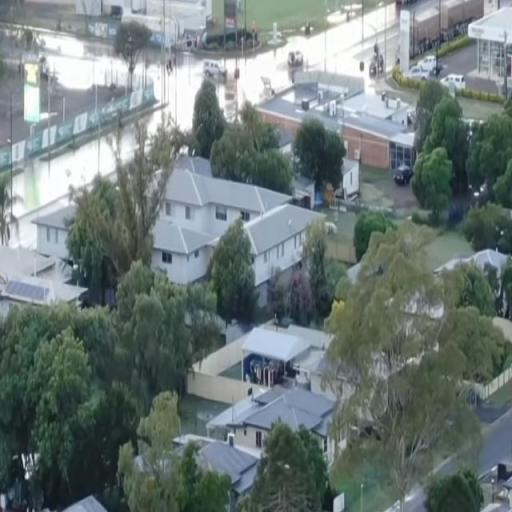flood: (217, 2, 400, 119), (10, 127, 135, 248), (134, 47, 203, 131), (44, 34, 127, 96)
house: (144, 159, 254, 298), (185, 322, 309, 404), (244, 198, 328, 309), (341, 96, 409, 174), (395, 1, 453, 79), (114, 0, 218, 43), (471, 6, 509, 102), (31, 204, 83, 263), (47, 493, 118, 512)
